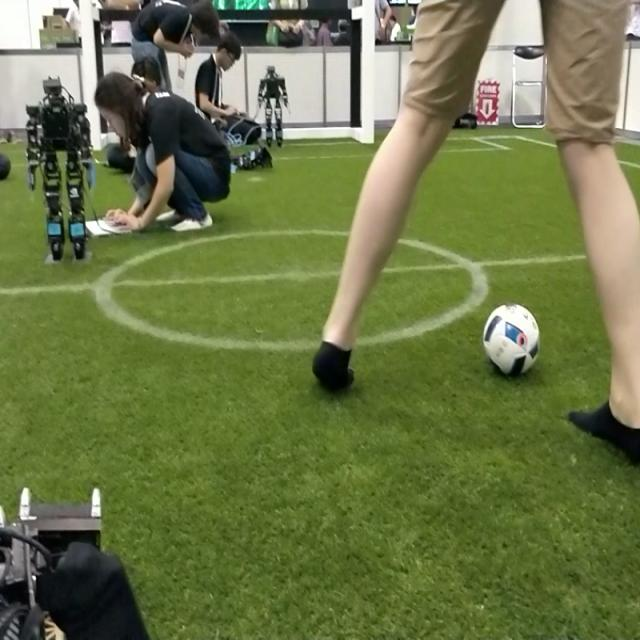ball: (483, 302, 540, 376)
goalpost: (81, 1, 101, 148), (360, 0, 374, 142)
